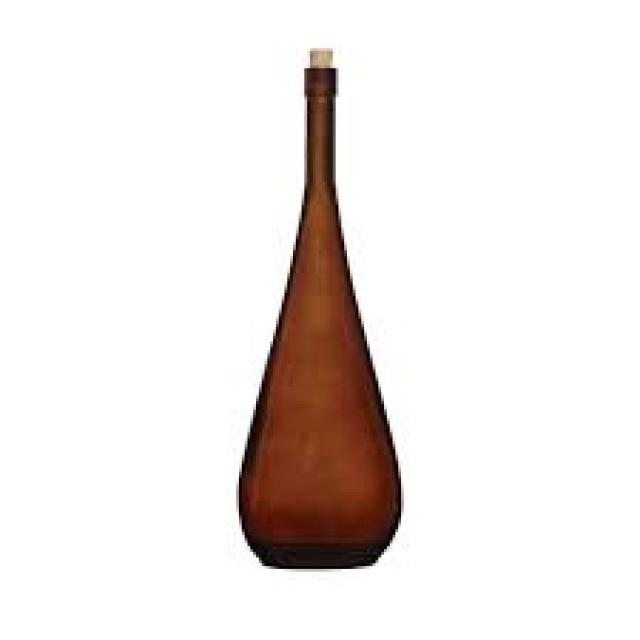glass: (236, 65, 398, 566)
